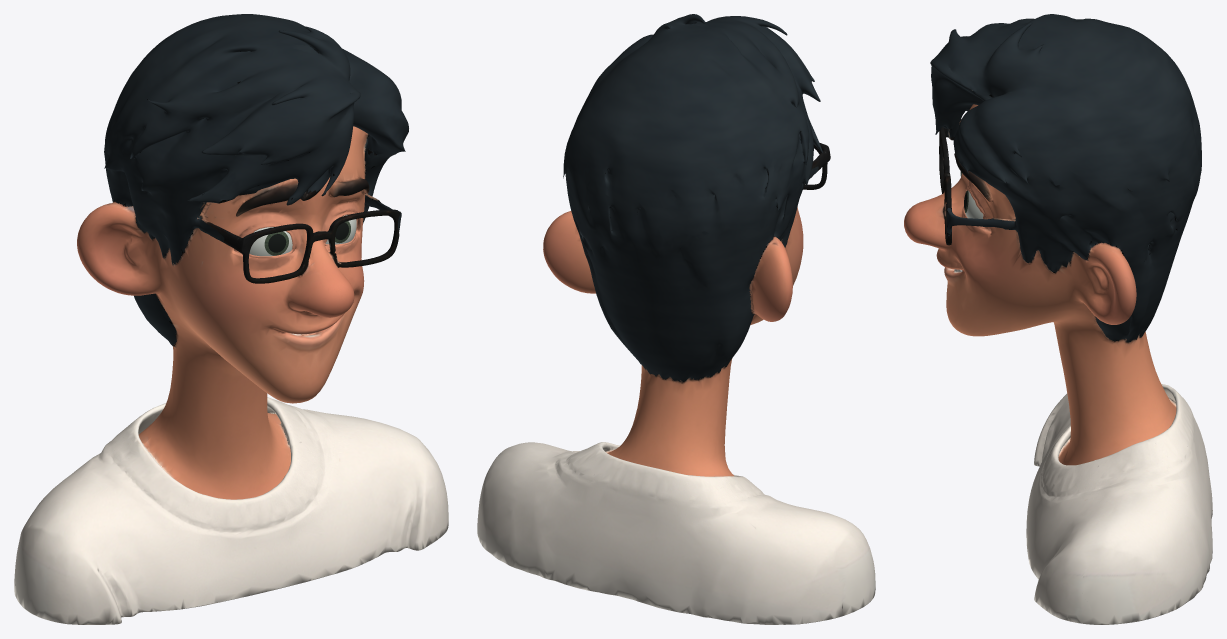
Rendered from me-quality-candidate.glb.
The picture shows the model from 3 angles, left to right: view 1: azimuth 30°, elevation 25°; view 2: azimuth 150°, elevation 25°; view 3: azimuth 270°, elevation 25°; orthographic projection. The views are drawn at different scales.
Visible parts, largest first — view 1: character-shirt, character-head, character-hair, character-glasses, eye-left; view 2: character-hair, character-shirt, character-head; view 3: character-hair, character-shirt, character-head, character-glasses.
Part boxes in pixels (x1=…): character-shirt: x1=14, y1=397, x2=448, y2=624; character-head: x1=77, y1=126, x2=378, y2=499; character-hair: x1=104, y1=14, x2=408, y2=346; character-glasses: x1=228, y1=209, x2=400, y2=283; eye-left: x1=249, y1=227, x2=292, y2=256; character-hair: x1=563, y1=14, x2=822, y2=382; character-shirt: x1=477, y1=442, x2=875, y2=624; character-head: x1=543, y1=157, x2=821, y2=476; character-hair: x1=930, y1=14, x2=1201, y2=342; character-shirt: x1=1026, y1=384, x2=1212, y2=624; character-head: x1=904, y1=89, x2=1176, y2=465; character-glasses: x1=939, y1=127, x2=951, y2=245.
Bounding box in the file's own units: 1.47 × 1.89 × 1.03.
Materials: 12 (6 with a texture image).
